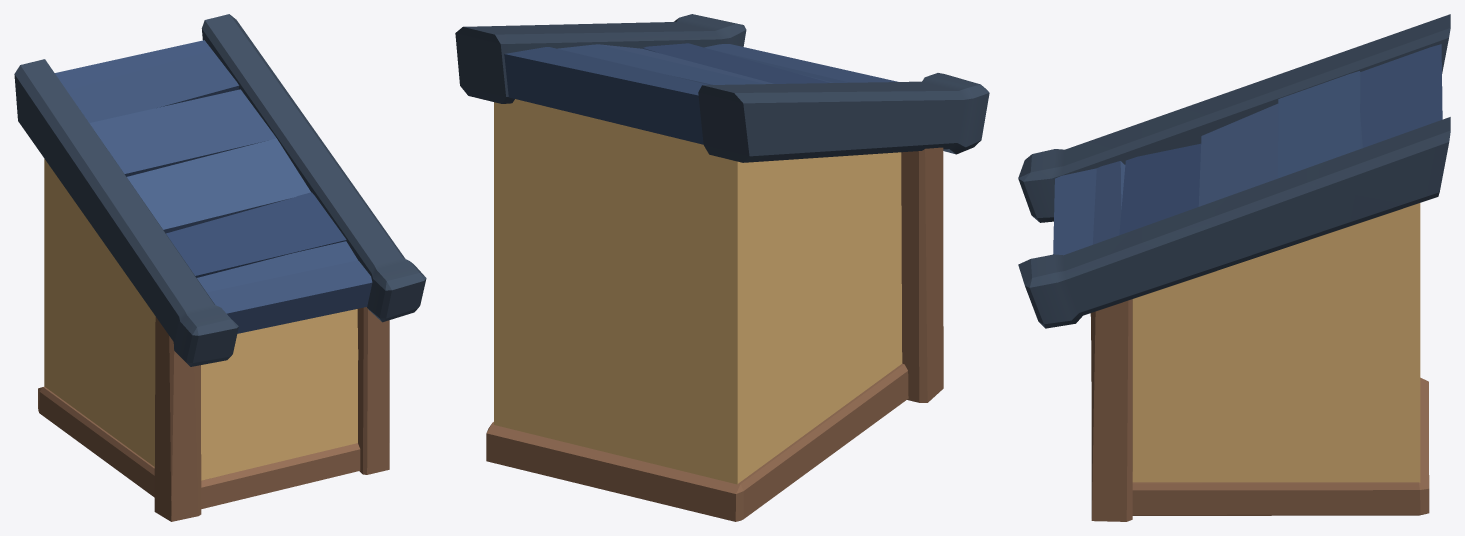
Rendered from House_1Floor_Side_T.fbx.
3 renders of one model, left to right at view 1: azimuth 30°, elevation 25°; view 2: azimuth 150°, elevation 25°; view 3: azimuth 270°, elevation 25°, orthographic. The views are drawn at different scales.
Parts seen in each view (by area): view 1: House_1Floor_Side_T; view 2: House_1Floor_Side_T; view 3: House_1Floor_Side_T.
Part boxes in pixels (<box>): House_1Floor_Side_T: <box>14,14,426,521</box>; House_1Floor_Side_T: <box>455,14,989,521</box>; House_1Floor_Side_T: <box>1018,14,1450,521</box>.
Bounding box in the file's own units: 215 × 300 × 302.
